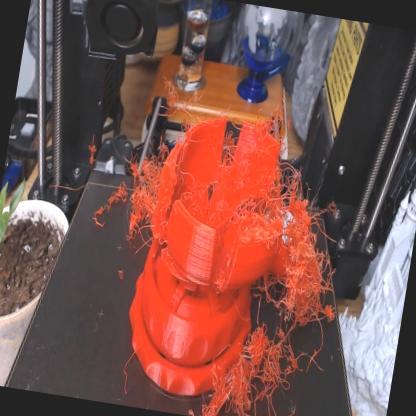fail: (231, 286, 323, 416), (261, 167, 348, 294), (89, 137, 165, 254), (192, 366, 240, 416)
